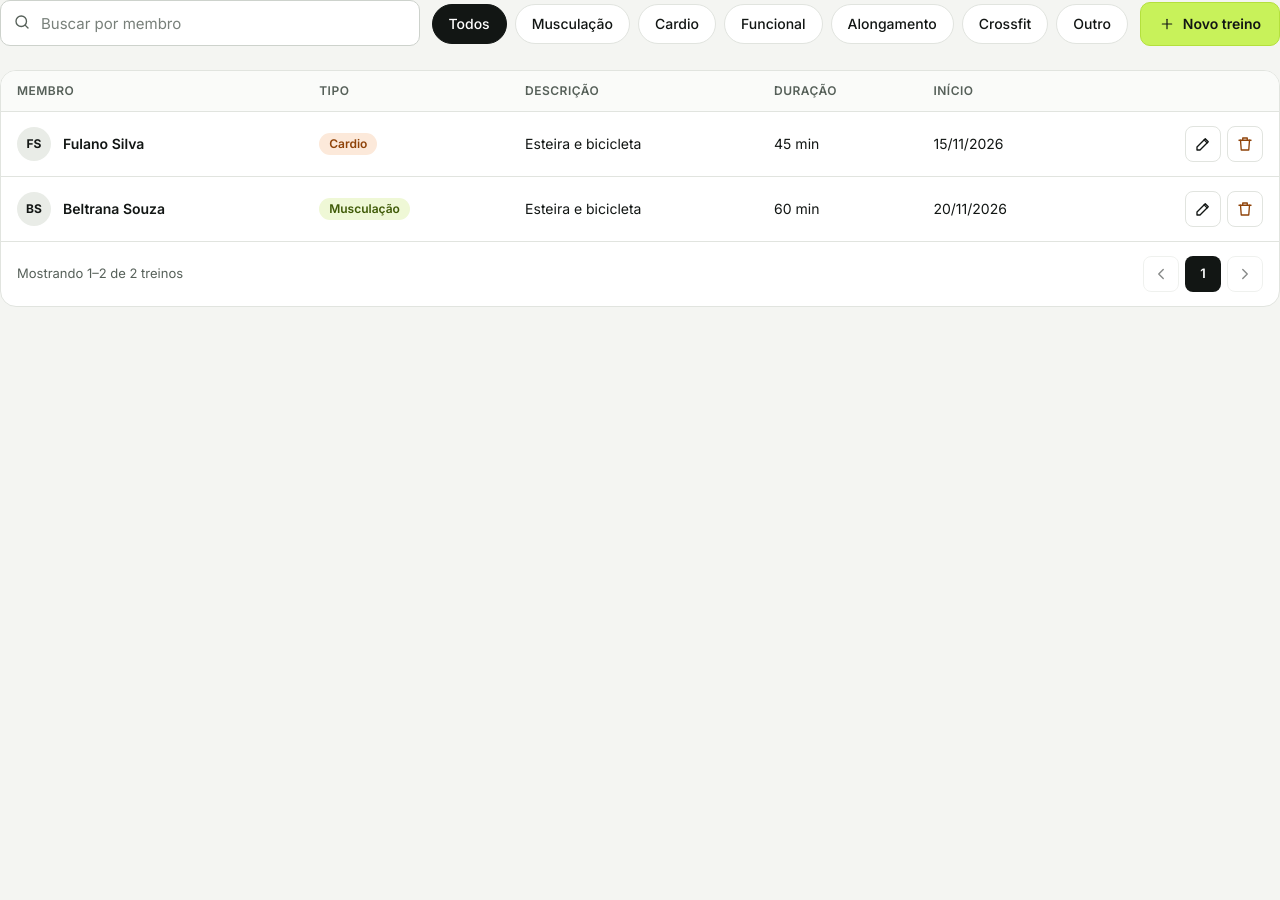
Scenario: TelaTreinos › excluir › Confirmar exclui, avisa e recarrega a lista
The width and height of the screenshot is (1280, 900).
expect the text "Fulano Silva" is shown: met, box [63,134,144,154]
Click the button named "Excluir treino Cardio de Fulano Silva com início em 15/11/2026" at (1245, 144), box [1227,126,1263,162]
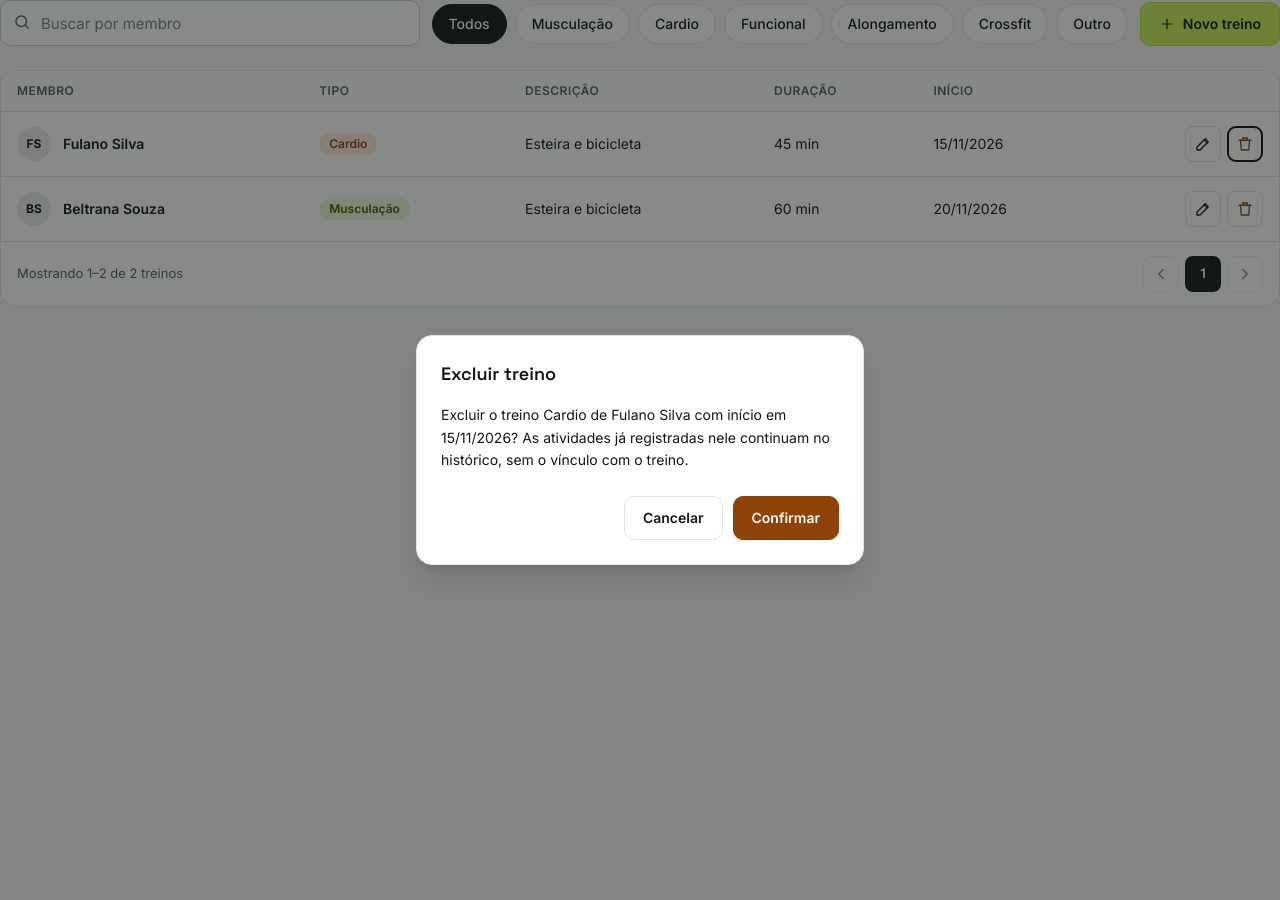
Click the button "Confirmar" at (786, 518), box [732,496,839,540]
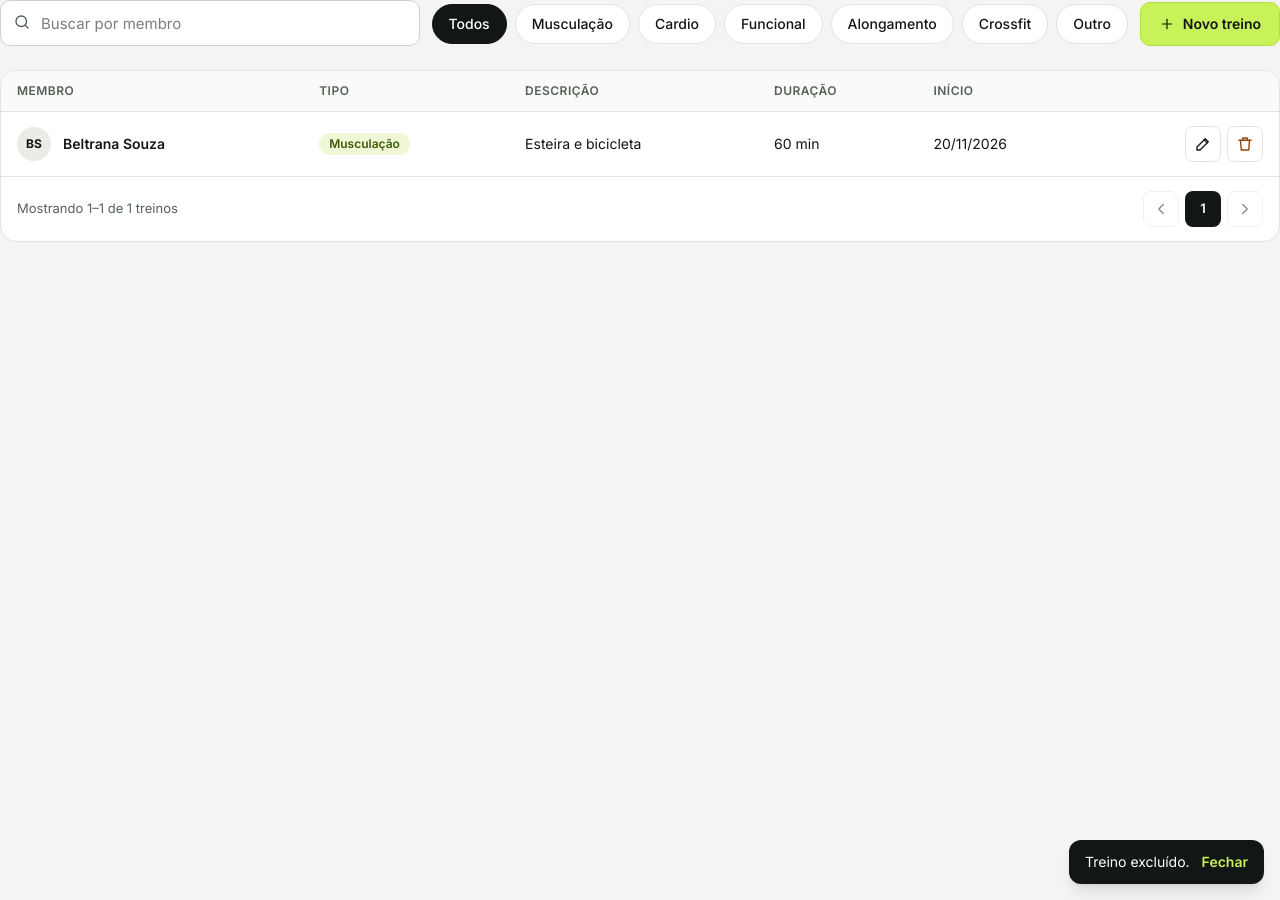
expect the text "Treino excluído." is shown: met, box [1085,852,1190,872]
expect the text "Fulano Silva" is gone: met
expect the dialog is gone: met
